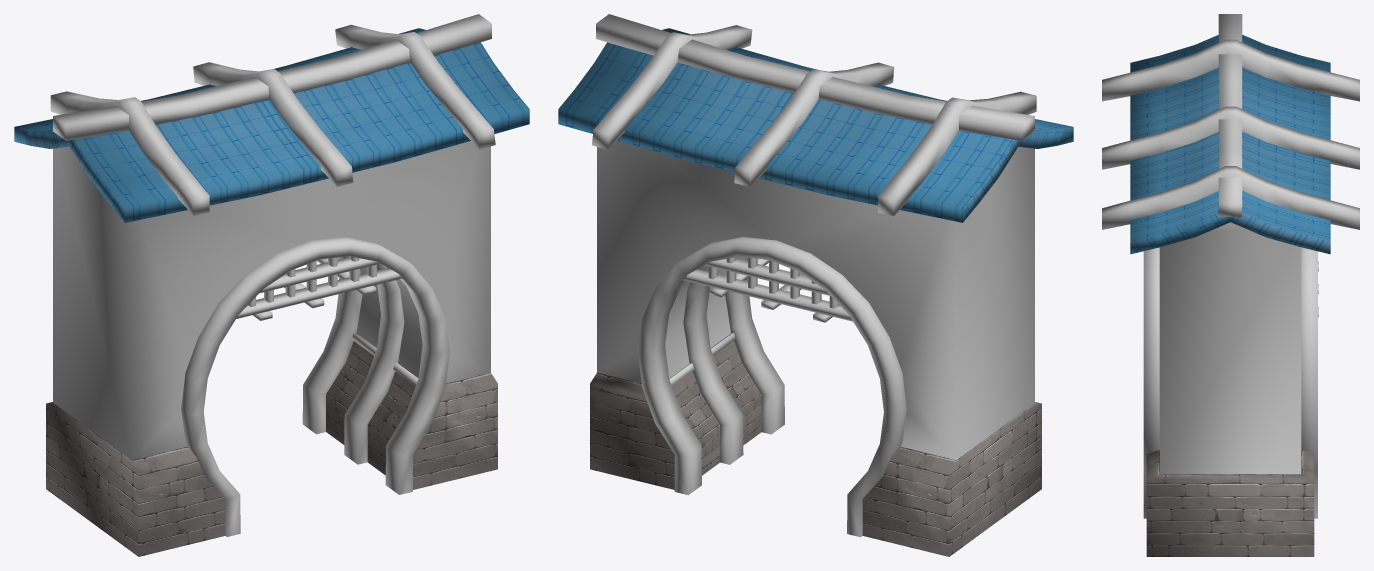
The model's file is GardenWall_Gate.fbx.
The picture shows the model from 3 angles, left to right: view 1: azimuth 30°, elevation 25°; view 2: azimuth 150°, elevation 25°; view 3: azimuth 270°, elevation 25°; orthographic projection. The views are drawn at different scales.
Parts seen in each view (by area): view 1: GardenWall_Gate; view 2: GardenWall_Gate; view 3: GardenWall_Gate.
Boxes of the visible parts, x1,y1,x2,y2 form: GardenWall_Gate: (14, 14, 529, 556); GardenWall_Gate: (558, 14, 1073, 556); GardenWall_Gate: (1102, 14, 1359, 556).
Size of the model in its own units: 4.93 by 4.56 by 2.86.
